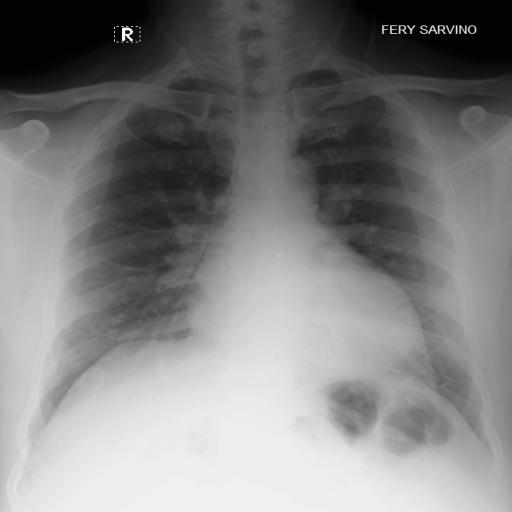kardiomegali: (10, 42, 509, 455)
